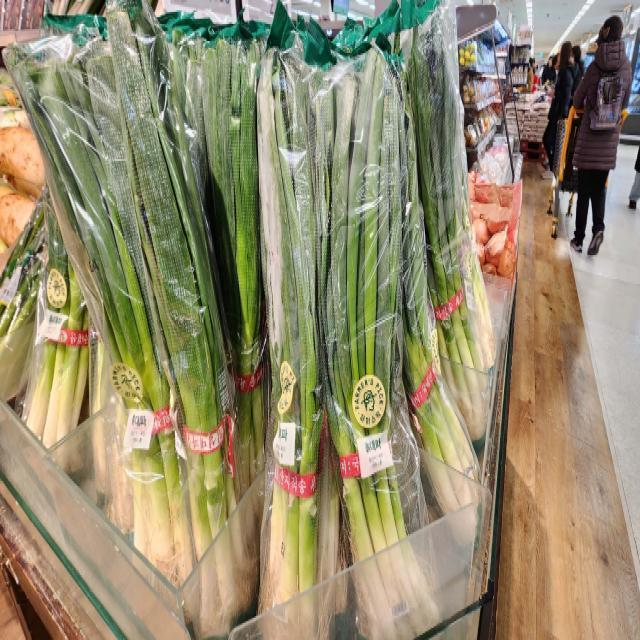green_onion: (97, 20, 240, 582), (314, 35, 438, 638), (184, 15, 270, 503), (255, 42, 322, 630)
